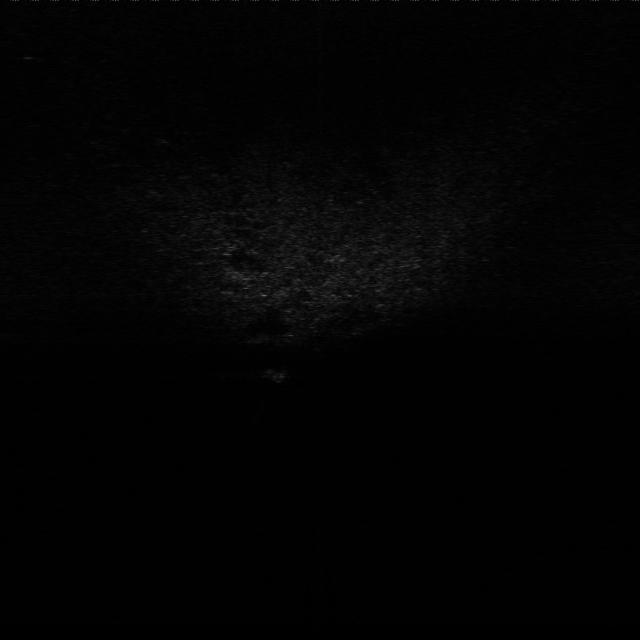cube: (262, 365, 292, 388)
